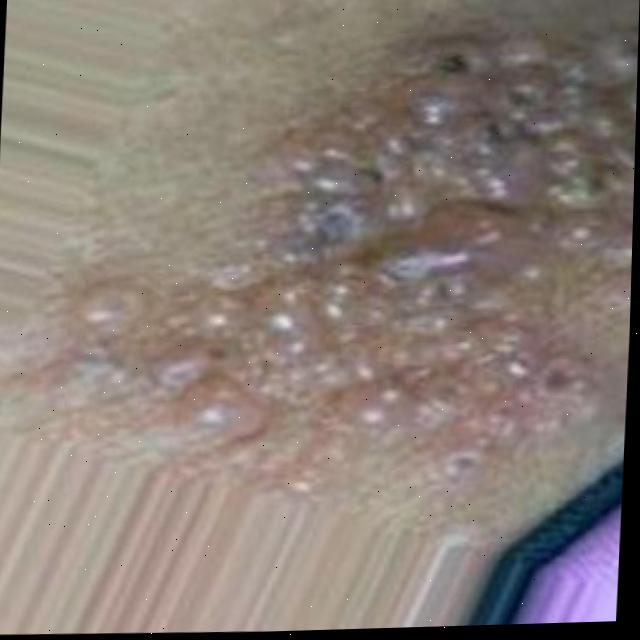Shingles: (108, 5, 639, 457)
